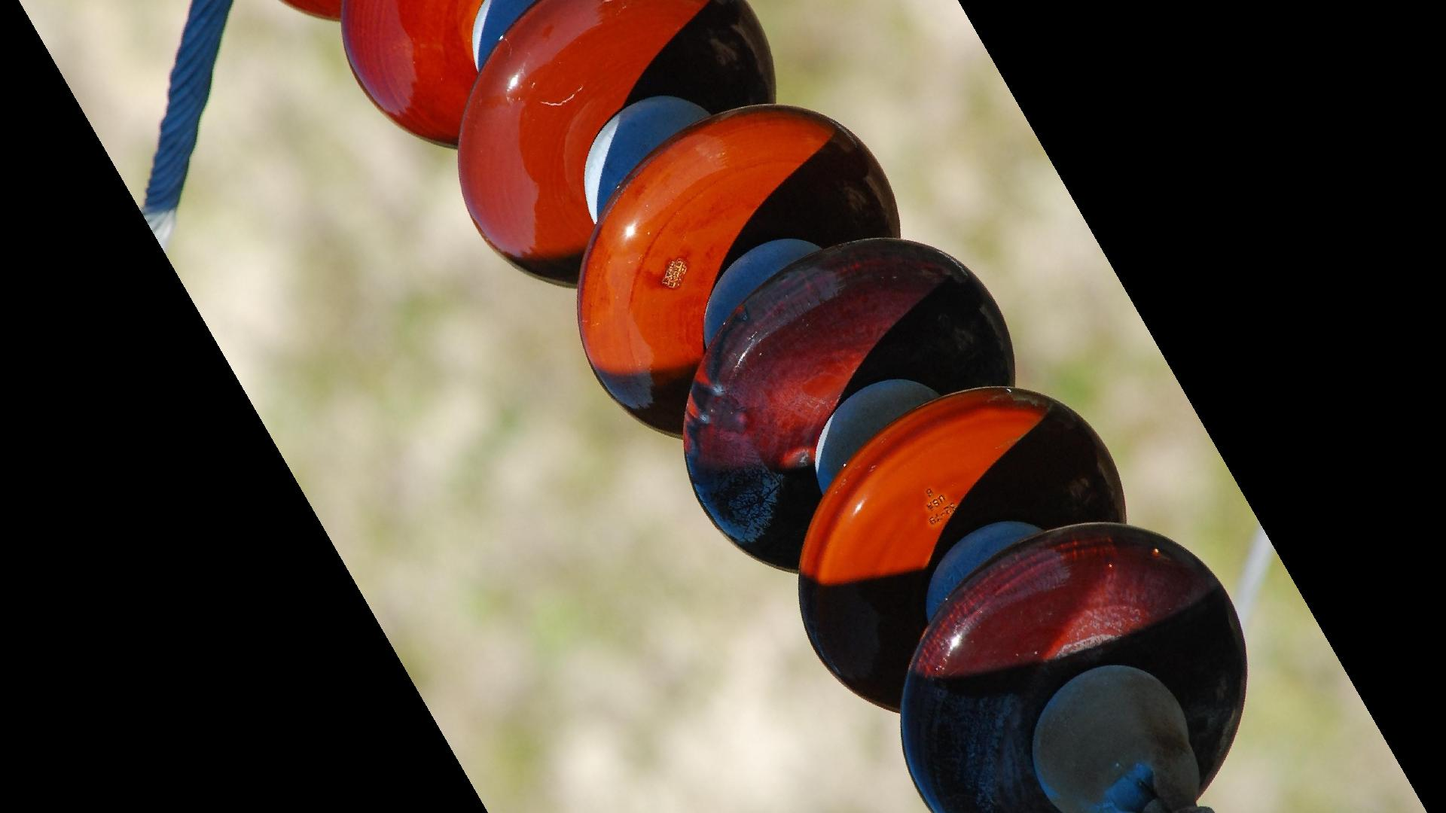insulator: (274, 1, 1258, 813)
insulator_flashover: (684, 420, 780, 550)
